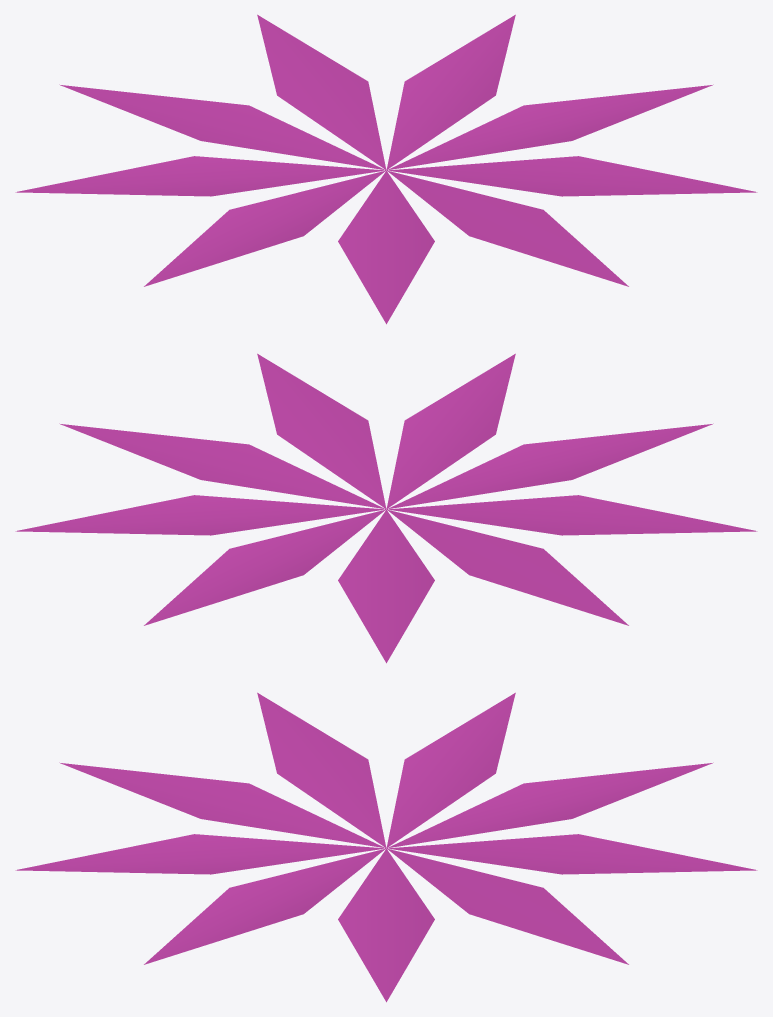
File: Flower 12.fbx
3 views of the same model, one above another, from view 1: azimuth 30°, elevation 25°; view 2: azimuth 150°, elevation 25°; view 3: azimuth 270°, elevation 25° (orthographic).
Visible parts, largest first — view 1: Flower_12; view 2: Flower_12; view 3: Flower_12.
Part boxes in pixels (x1,y1,x2,y2): Flower_12: (15, 14, 757, 324); Flower_12: (15, 353, 757, 663); Flower_12: (15, 692, 757, 1002).
Size of the model in its own units: 57.63 by 0.679 by 58.52.
Materials: 1 (1 with a texture image).
